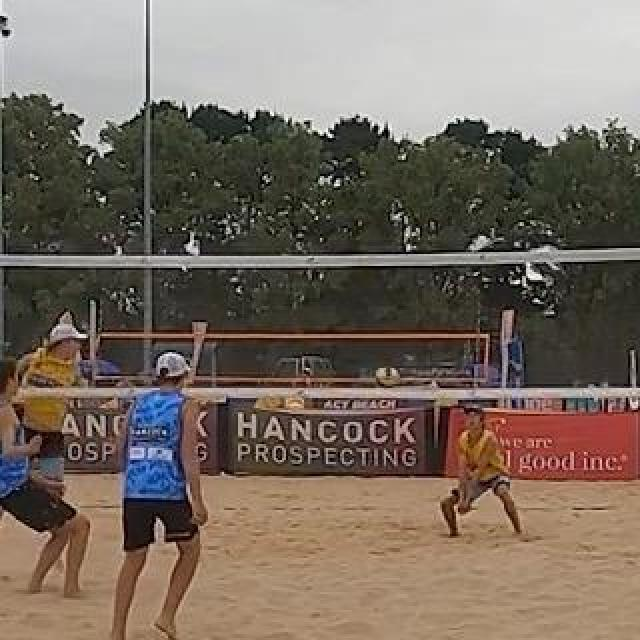volleyball: (377, 365, 399, 387)
